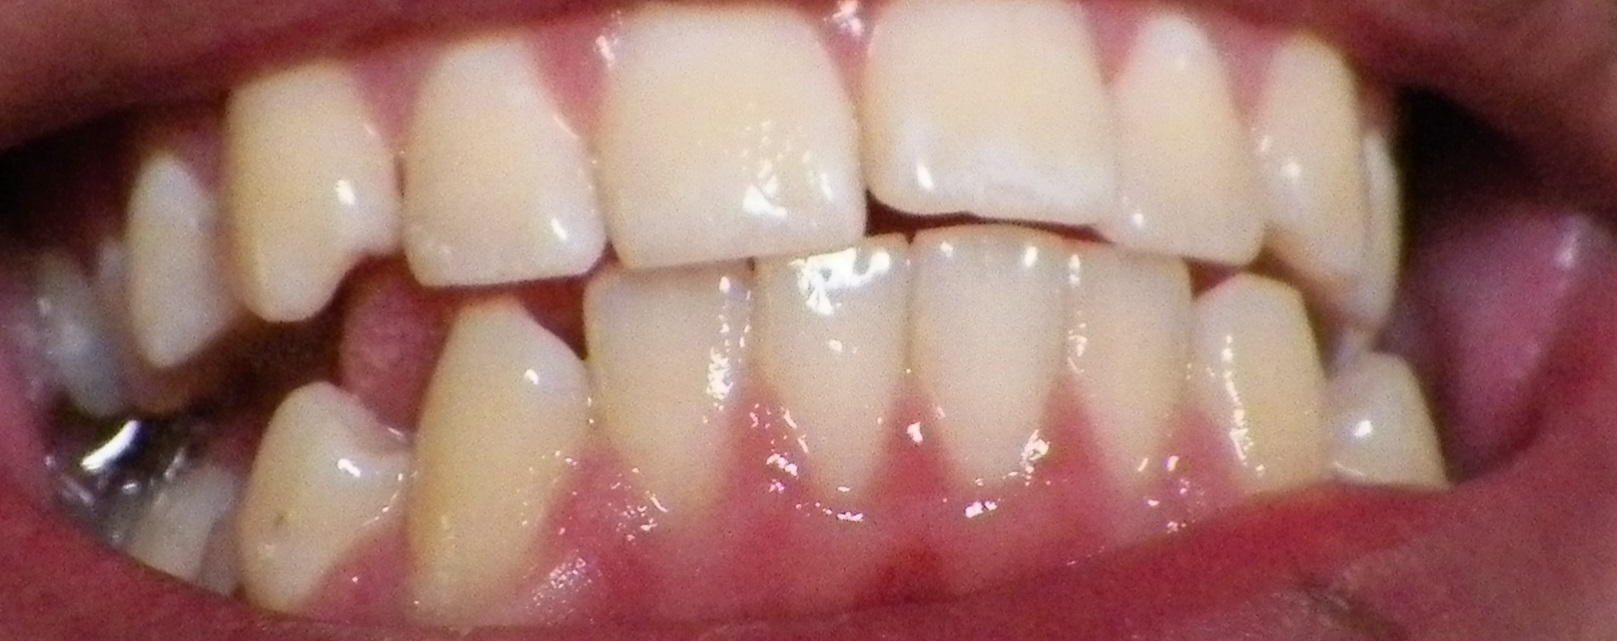boca: (39, 1, 1447, 611)
